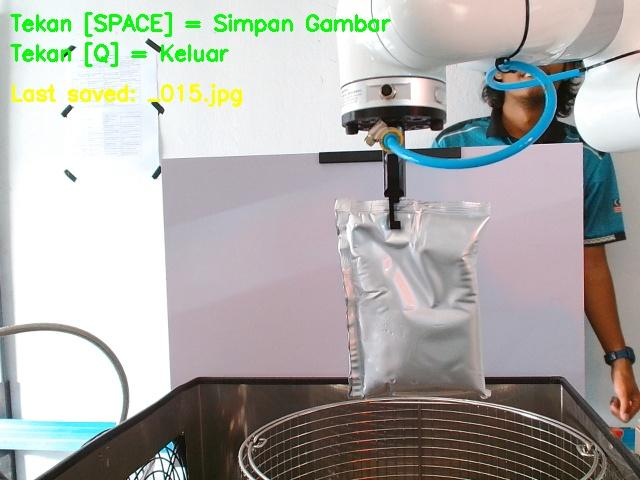retort-pouch: (333, 197, 493, 399)
